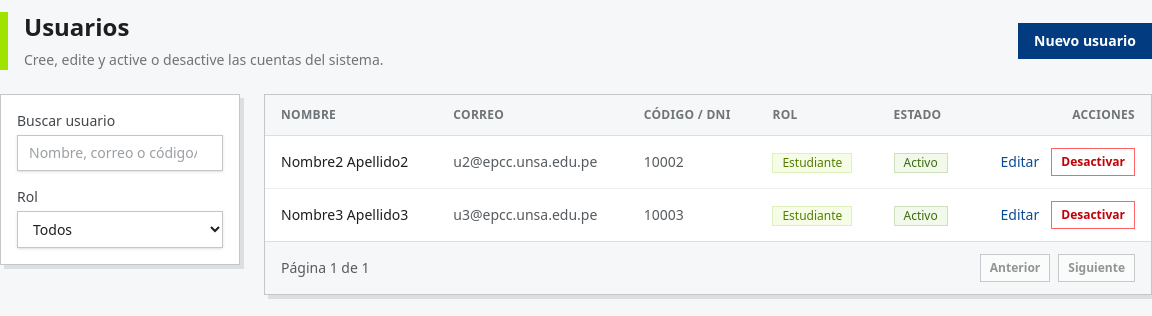
Test case: UserListPage › filtra la lista por rol
Check: the text "Nombre2 Apellido2" is shown, box [265,136,437,188]
Step 1. Select "Docente" in the dropdown labelled "Rol" → (120, 230), box [17,211,223,248]
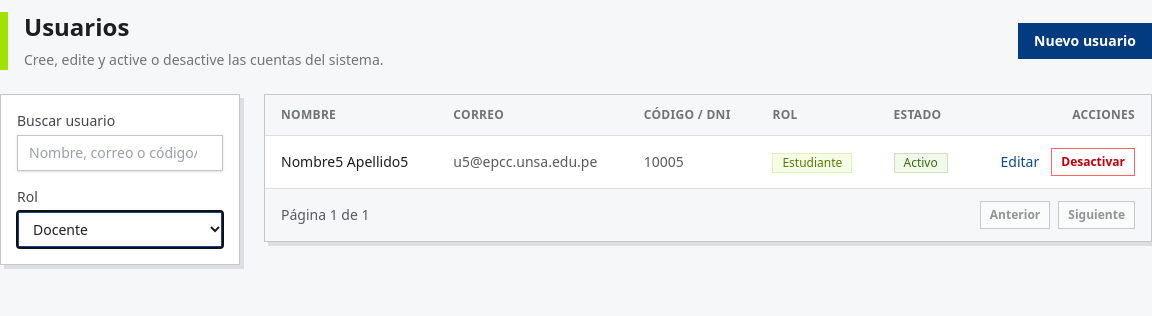
Check: the text "Nombre5 Apellido5" is shown, box [265,136,437,188]
